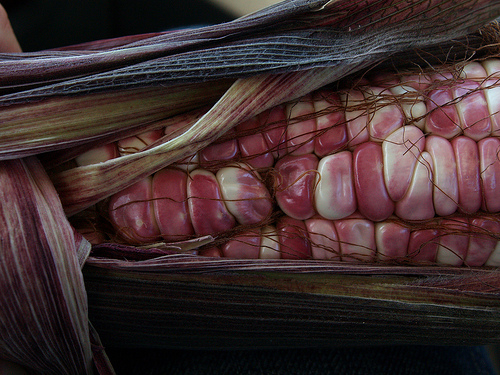corn: (53, 57, 499, 260), (179, 164, 240, 242), (312, 149, 356, 222), (421, 81, 461, 141)
